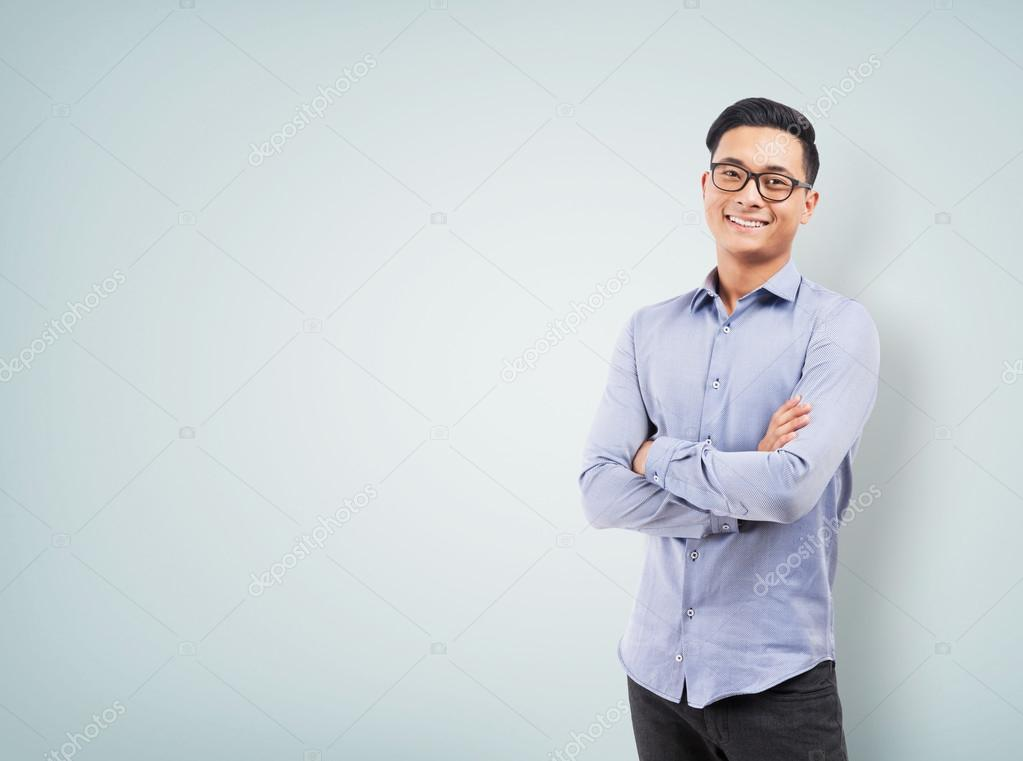bare: (704, 190, 801, 258)
